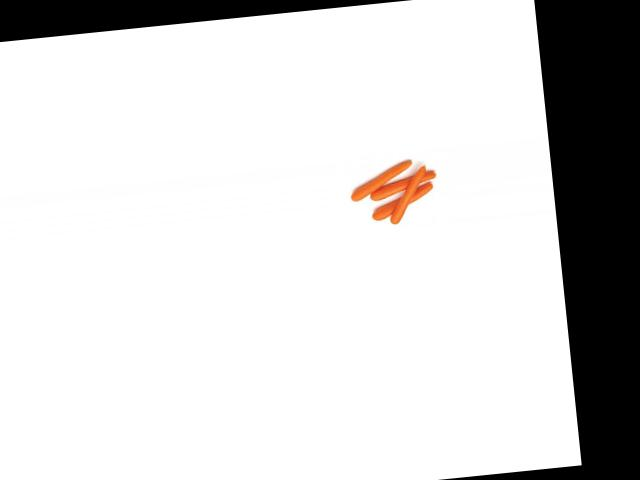carrot: (365, 183, 436, 224)
